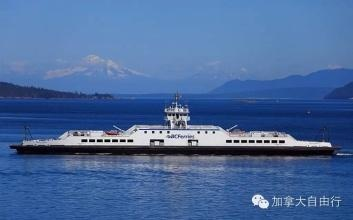otherboat: (10, 103, 340, 160)
